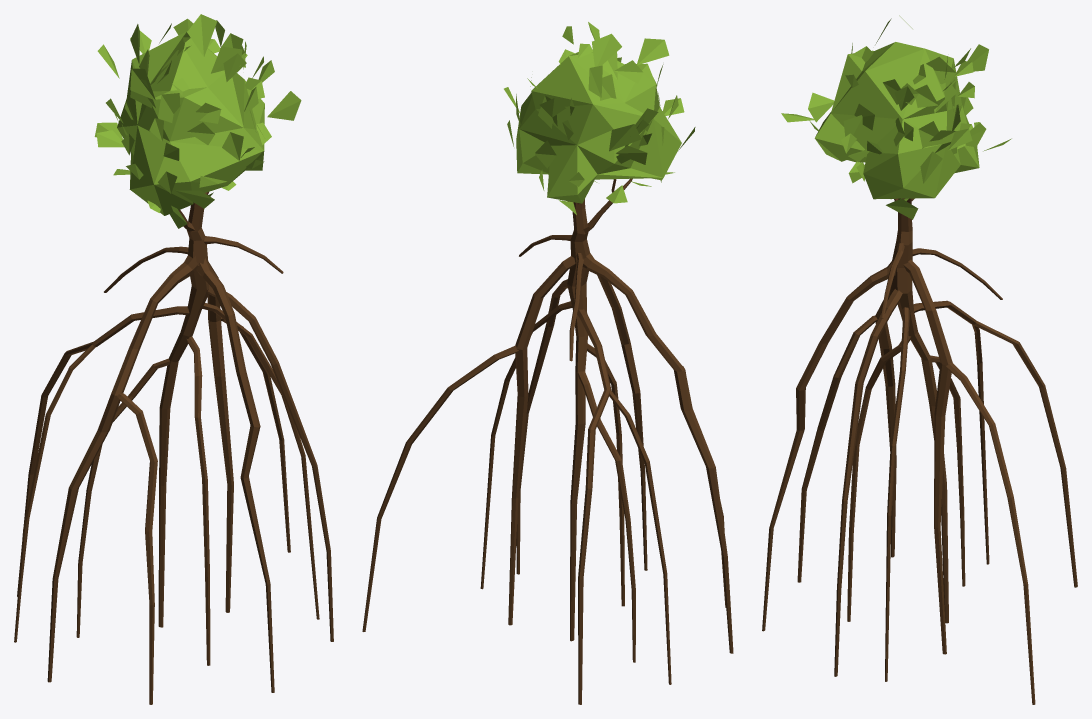
File: tree-mangrove-mature-b.gltf
The picture shows the model from 3 angles, left to right: view 1: azimuth 30°, elevation 25°; view 2: azimuth 150°, elevation 25°; view 3: azimuth 270°, elevation 25°; orthographic projection. The views are drawn at different scales.
Visible parts, largest first — view 1: tree-mangrove-mature-b; view 2: tree-mangrove-mature-b; view 3: tree-mangrove-mature-b.
Boxes of the visible parts, left/top/right/bottom form: tree-mangrove-mature-b: left=14, top=14, right=333, bottom=704; tree-mangrove-mature-b: left=362, top=22, right=733, bottom=704; tree-mangrove-mature-b: left=762, top=15, right=1077, bottom=704.
Bounding box in the file's own units: 0.0321 × 0.0614 × 0.0288.
